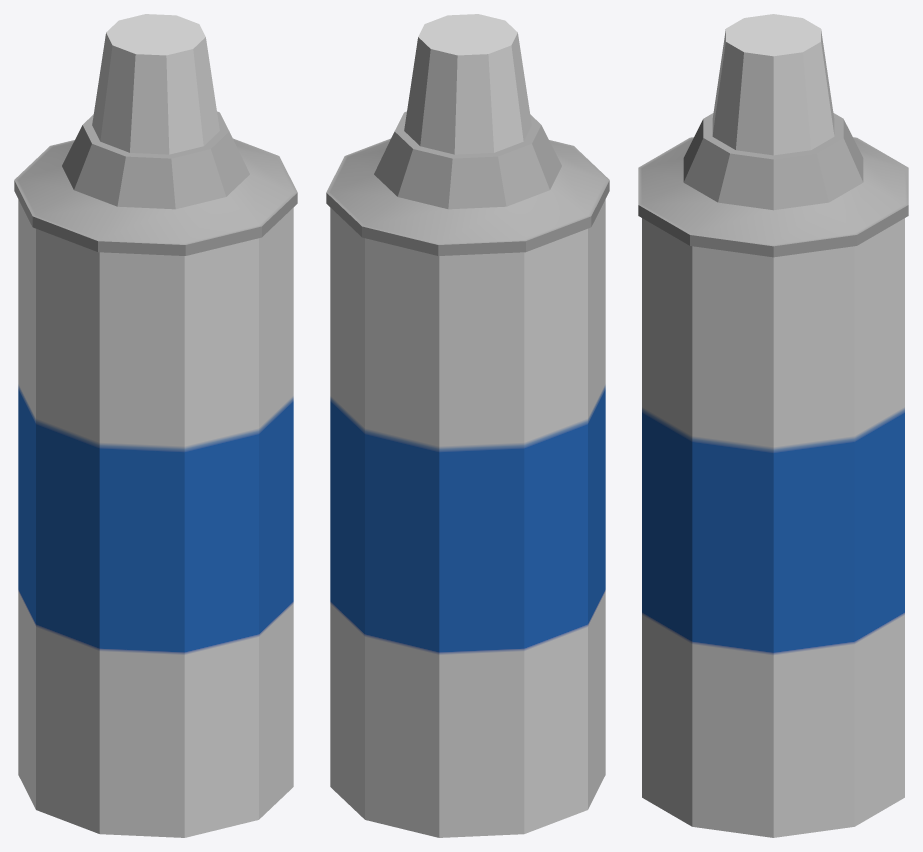
File: obj_paint_spray_blue.fbx
The picture shows the model from 3 angles, left to right: view 1: azimuth 30°, elevation 25°; view 2: azimuth 150°, elevation 25°; view 3: azimuth 270°, elevation 25°; orthographic projection.
Parts seen in each view (by area): view 1: obj_paint_spray_blue; view 2: obj_paint_spray_blue; view 3: obj_paint_spray_blue.
Boxes of the visible parts, x1,y1,x2,y2 form: obj_paint_spray_blue: (14,14,297,837); obj_paint_spray_blue: (326,14,609,837); obj_paint_spray_blue: (638,14,908,837).
Bounding box in the file's own units: 0.142 × 0.41 × 0.135.
Materials: 1 (1 with a texture image).
